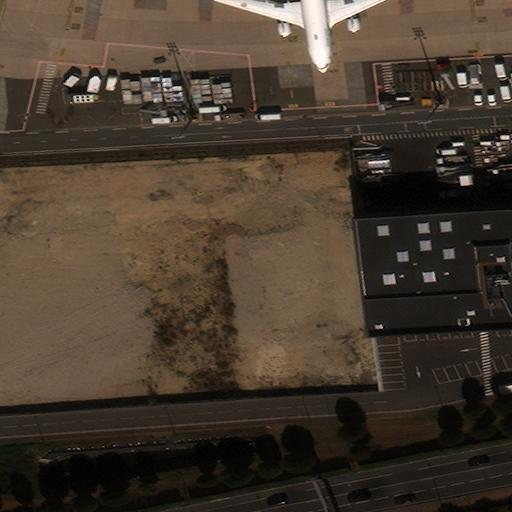Large Civil Transport: (212, 0, 399, 71)
